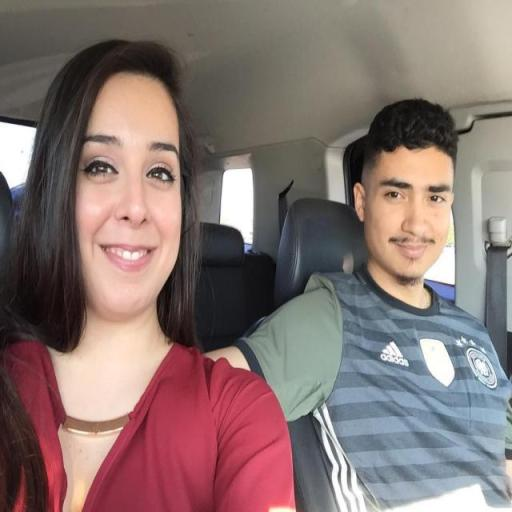Adidas: (378, 337, 409, 367)
